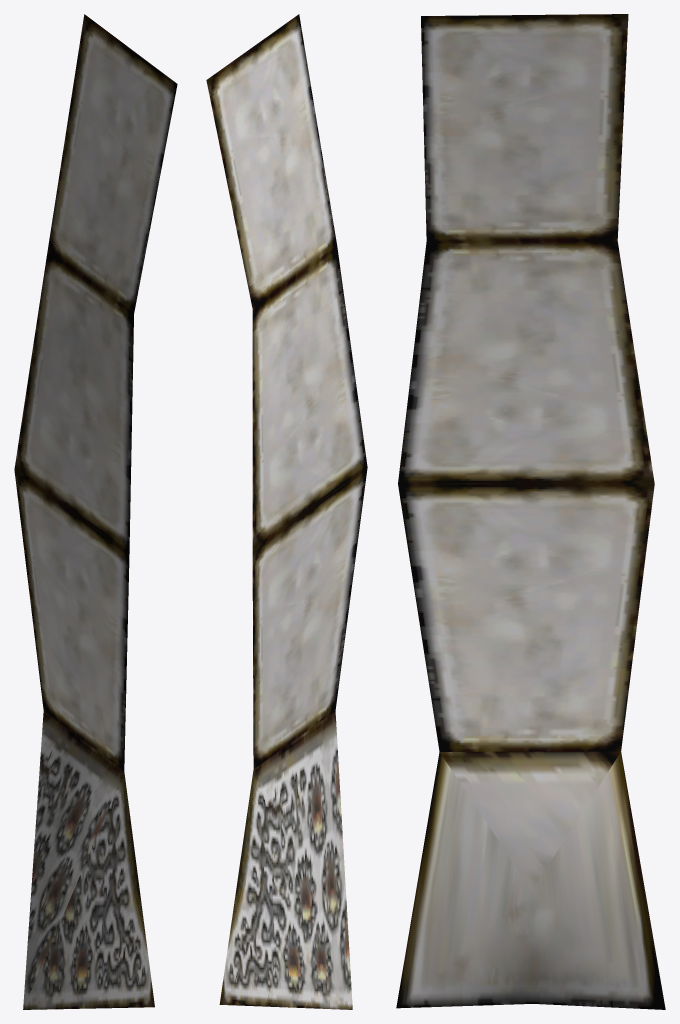
Rendered from earring_s01_l2.fbx.
The picture shows the model from 3 angles, left to right: view 1: azimuth 30°, elevation 25°; view 2: azimuth 150°, elevation 25°; view 3: azimuth 270°, elevation 25°; orthographic projection. The views are drawn at different scales.
Visible parts, largest first — view 1: mesh_node; view 2: mesh_node; view 3: mesh_node.
Boxes of the visible parts, x1,y1,x2,y2 form: mesh_node: [14, 14, 177, 1009]; mesh_node: [206, 14, 367, 1009]; mesh_node: [396, 14, 665, 1009].
Size of the model in its own units: 0.0198 by 0.1706 by 0.0398.
Materials: 1 (1 with a texture image).
